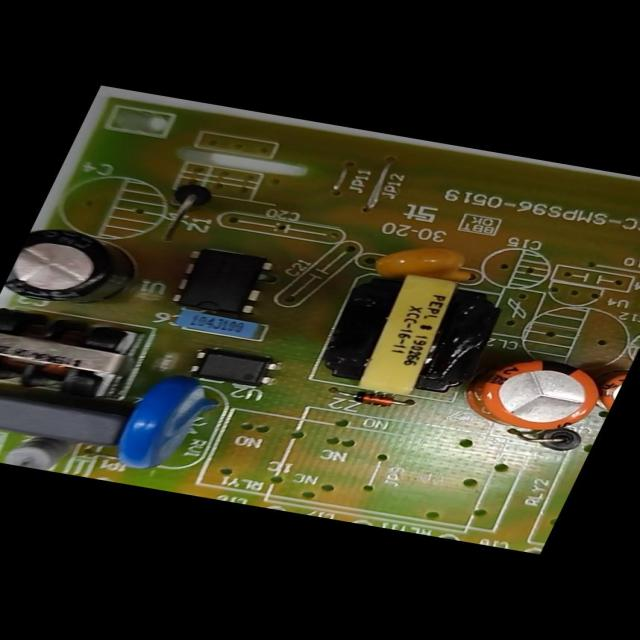Cap1: (454, 350, 613, 439)
Cap2: (590, 367, 628, 414)
Cap3: (0, 228, 151, 313)
MOSFET: (162, 245, 276, 319)
Mov: (102, 377, 225, 478)
Resistor: (0, 431, 78, 473)
Transformer: (312, 271, 511, 407), (0, 307, 142, 402)
